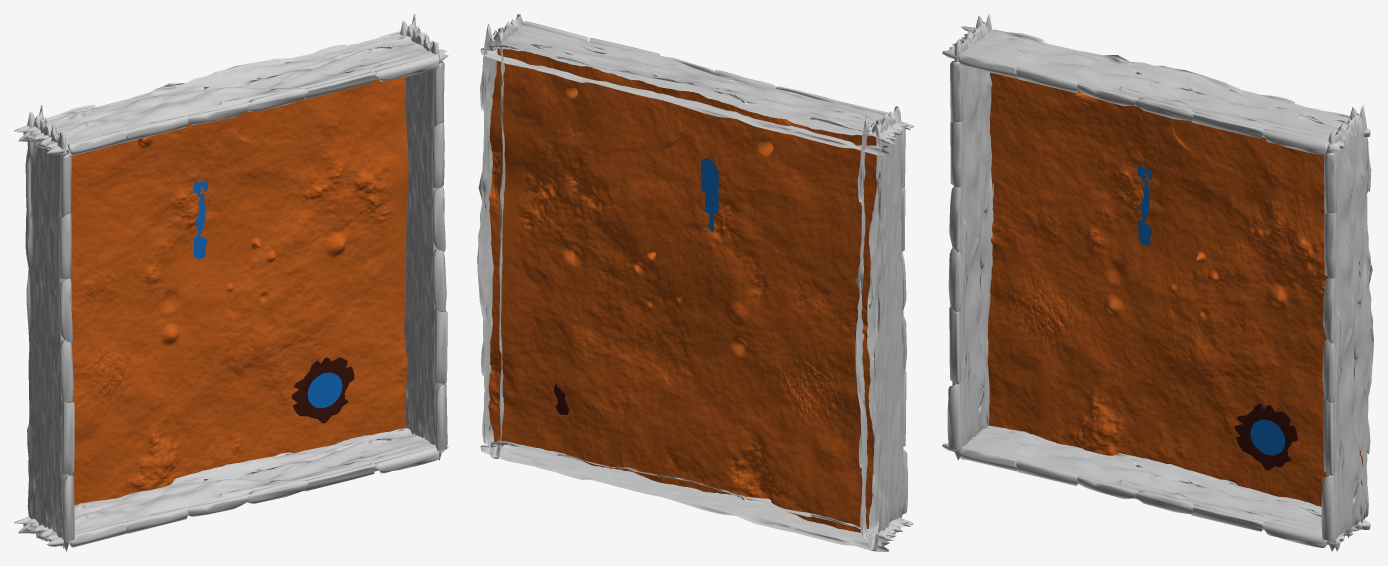
The model's file is newterrain_3.obj.
3 views of the same model, side by side, from view 1: azimuth 30°, elevation 25°; view 2: azimuth 150°, elevation 25°; view 3: azimuth 330°, elevation 25° (orthographic).
Visible parts, largest first — view 1: terrain_rock, wall1, wall3, wall4, wall2, mud_1, water_3, water_1; view 2: terrain_rock, wall1, wall3, wall4, wall2, water_1; view 3: terrain_rock, wall2, wall3, wall1, wall4, mud_1, water_3, water_1.
Part boxes in pixels (x1,y1,x2,y2): terrain_rock: (67, 77, 408, 505); wall1: (25, 105, 74, 551); wall3: (14, 31, 448, 155); wall4: (14, 428, 448, 547); wall2: (400, 14, 447, 460); mud_1: (292, 357, 354, 423); water_3: (307, 372, 342, 408); water_1: (190, 181, 207, 258); terrain_rock: (488, 48, 876, 532); wall1: (855, 106, 907, 550); wall3: (480, 21, 913, 154); wall4: (480, 440, 913, 551); wall2: (477, 14, 522, 458); water_1: (701, 158, 718, 232); terrain_rock: (987, 72, 1362, 506); wall2: (1321, 105, 1373, 551); wall3: (942, 26, 1370, 155); wall1: (947, 14, 993, 460); wall4: (942, 425, 1370, 547); mud_1: (1235, 404, 1297, 470); water_3: (1250, 419, 1285, 455); water_1: (1135, 166, 1152, 245).
Size of the model in its own units: 88.06 by 87.59 by 12.86.
